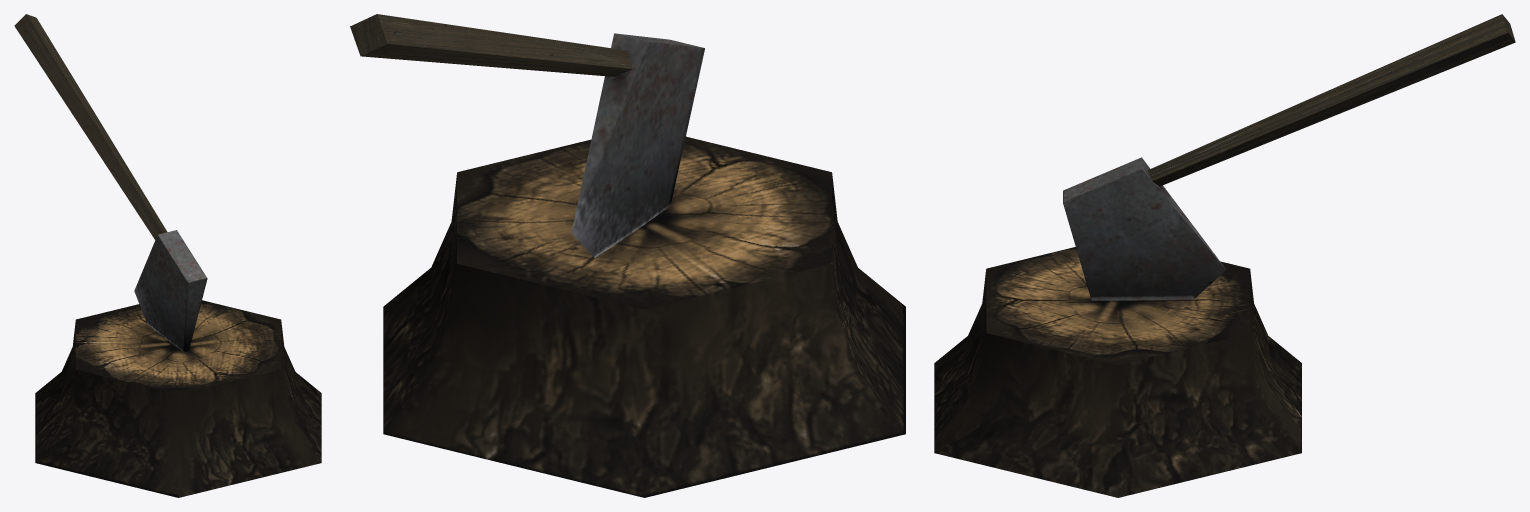
The model's file is prop_axenstump_brown.FBX.
3 views of the same model, side by side, from view 1: azimuth 30°, elevation 25°; view 2: azimuth 150°, elevation 25°; view 3: azimuth 270°, elevation 25° (orthographic). The views are drawn at different scales.
Visible parts, largest first — view 1: axenstump; view 2: axenstump; view 3: axenstump.
Boxes of the visible parts, left/top/right/bottom form: axenstump: left=14, top=14, right=321, bottom=497; axenstump: left=350, top=14, right=905, bottom=497; axenstump: left=934, top=14, right=1515, bottom=497.
Bounding box in the file's own units: 283 × 289 × 388.
